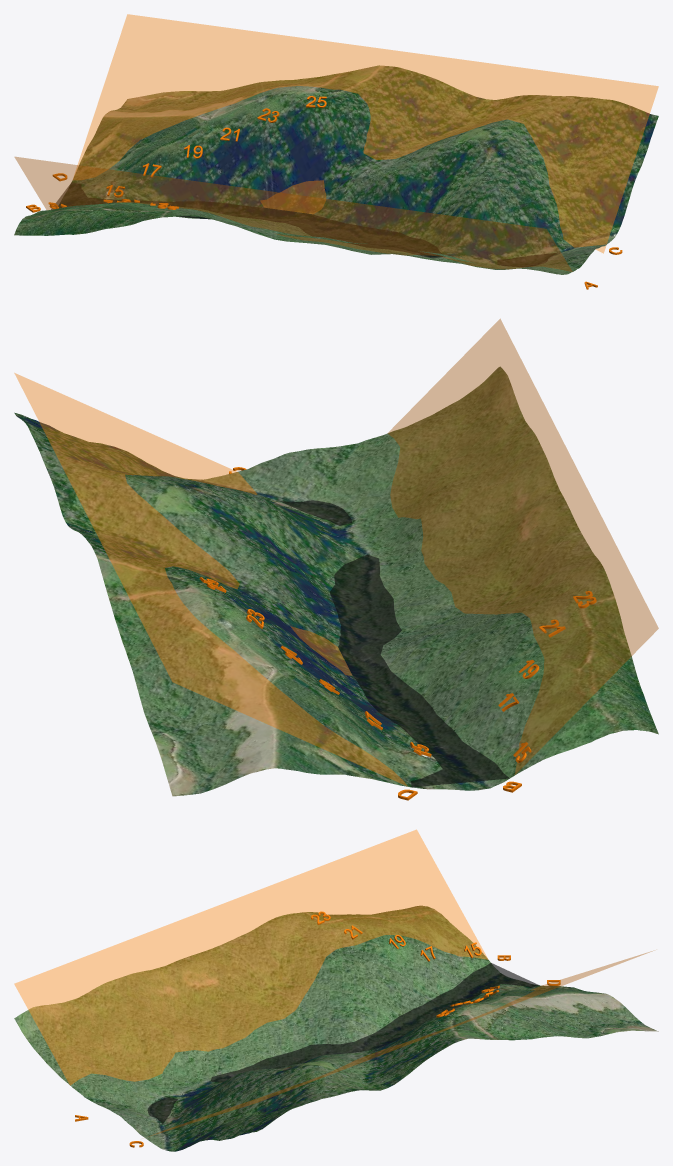
The model's file is curva16b.gltf.
3 views of the same model, one above another, from view 1: azimuth 30°, elevation 25°; view 2: azimuth 150°, elevation 25°; view 3: azimuth 270°, elevation 25° (orthographic). The views are drawn at different scales.
Visible parts, largest first — view 1: root; view 2: root; view 3: root.
Part boxes in pixels (bbox=[...]): root: bbox=[14, 14, 658, 289]; root: bbox=[14, 319, 658, 800]; root: bbox=[14, 829, 658, 1151].
Size of the model in its own units: 1835 by 337 by 1874.
Materials: 4 (1 with a texture image).
